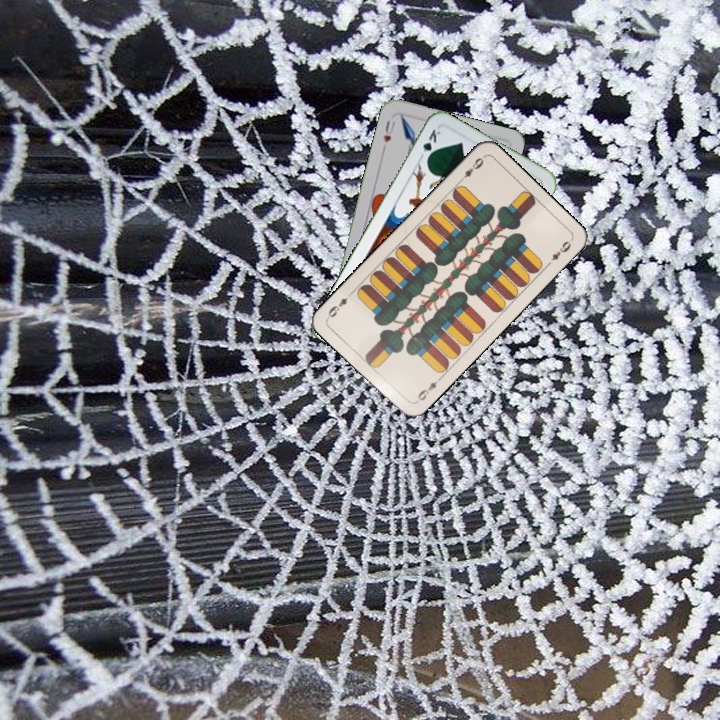E9: (412, 373, 444, 405), (455, 153, 486, 185)
GK: (418, 125, 443, 164)
HU: (379, 116, 398, 145)
